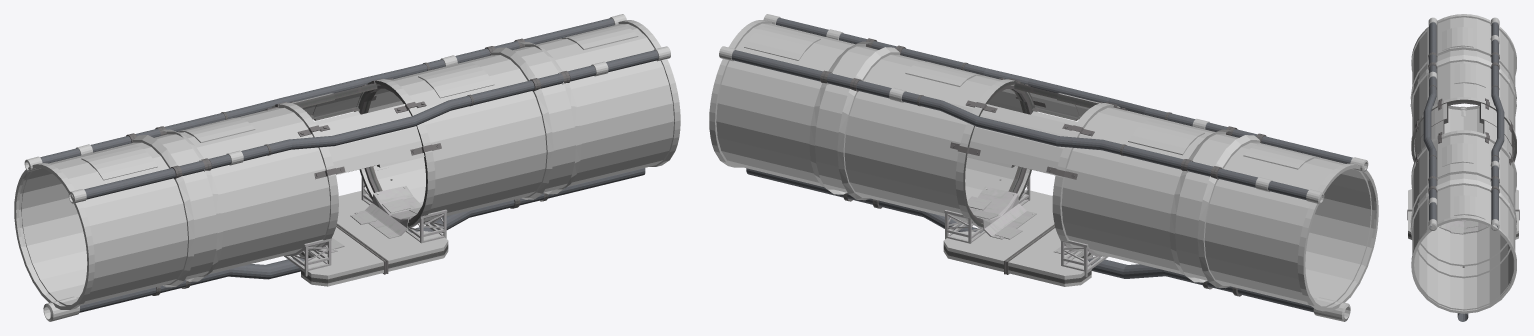
Rendered from AreaJ_Pipe_Outside_B.fbx.
The picture shows the model from 3 angles, left to right: view 1: azimuth 30°, elevation 25°; view 2: azimuth 150°, elevation 25°; view 3: azimuth 270°, elevation 25°; orthographic projection. The views are drawn at different scales.
Visible parts, largest first — view 1: SM_ENV_AMVLLG02_AreaJ_Pipe_Outside_B.mo; view 2: SM_ENV_AMVLLG02_AreaJ_Pipe_Outside_B.mo; view 3: SM_ENV_AMVLLG02_AreaJ_Pipe_Outside_B.mo.
Part boxes in pixels (x1,y1,x2,y2): SM_ENV_AMVLLG02_AreaJ_Pipe_Outside_B.mo: (14,14,680,321); SM_ENV_AMVLLG02_AreaJ_Pipe_Outside_B.mo: (709,14,1378,321); SM_ENV_AMVLLG02_AreaJ_Pipe_Outside_B.mo: (1407,14,1519,321).
Bounding box in the file's own units: 7944 × 2115 × 1818.
